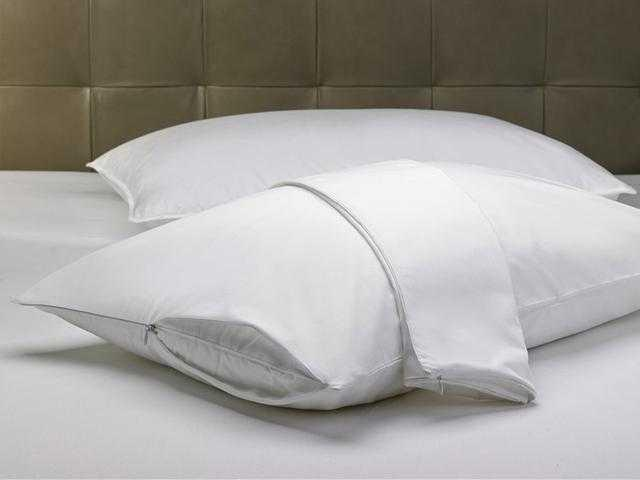pillow: (9, 157, 639, 411), (84, 106, 636, 224)
